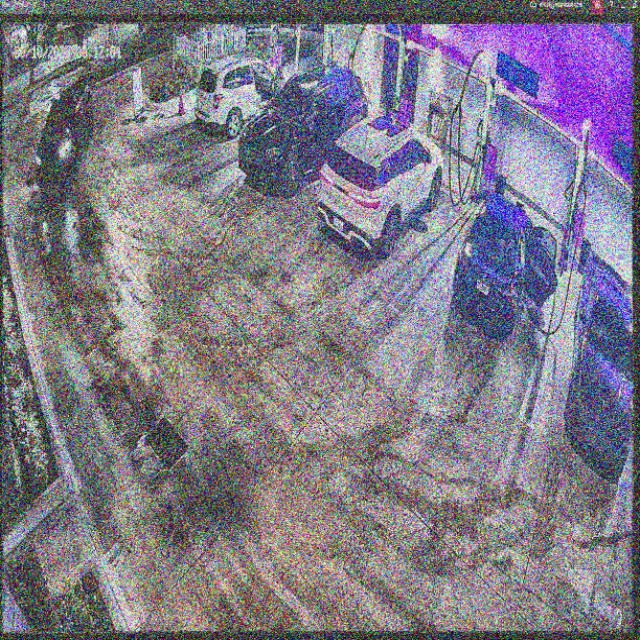Car: (241, 66, 366, 198), (322, 115, 441, 251), (455, 187, 556, 337)
